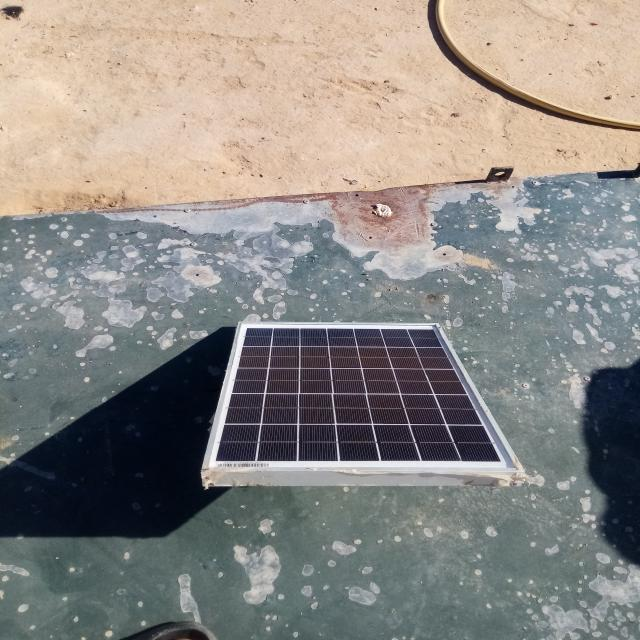no faulty: (202, 323, 524, 471)
